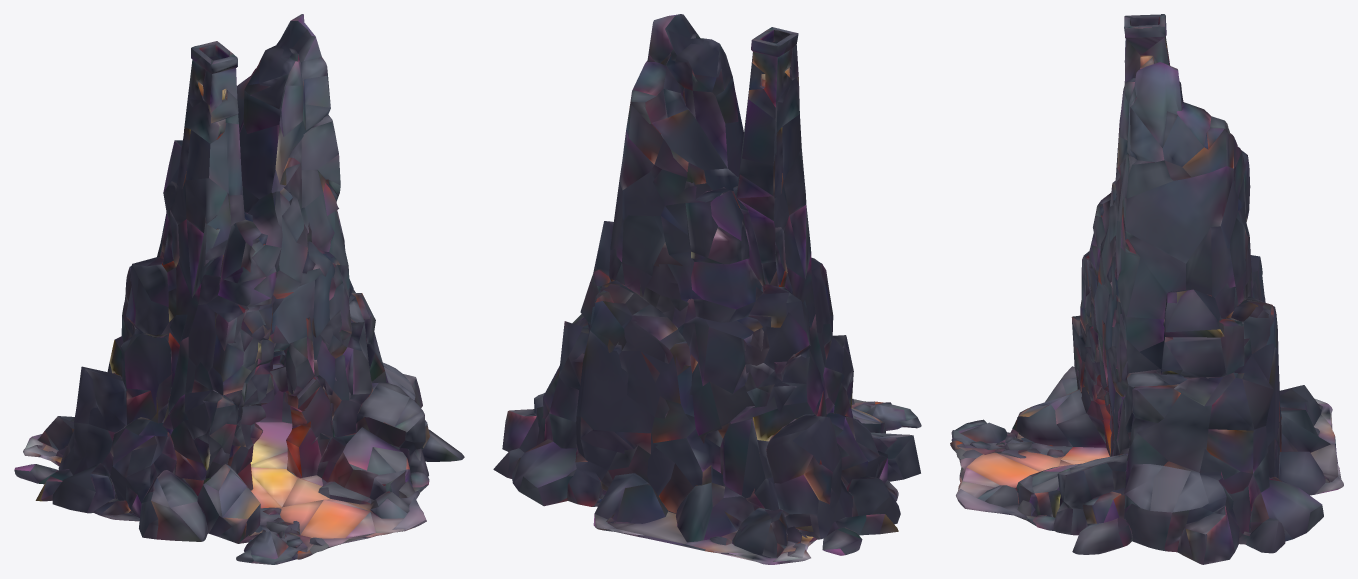
The model's file is volcano-forge-tower-lod2.glb.
3 renders of one model, left to right at view 1: azimuth 30°, elevation 25°; view 2: azimuth 150°, elevation 25°; view 3: azimuth 270°, elevation 25°, orthographic.
Parts seen in each view (by area): view 1: Mesh_0; view 2: Mesh_0; view 3: Mesh_0.
Boxes of the visible parts, bbox=[...] form: Mesh_0: bbox=[14, 14, 464, 564]; Mesh_0: bbox=[493, 14, 921, 564]; Mesh_0: bbox=[950, 14, 1343, 564].
Size of the model in its own units: 1.76 by 1.89 by 1.56.
Materials: 1 (1 with a texture image).
